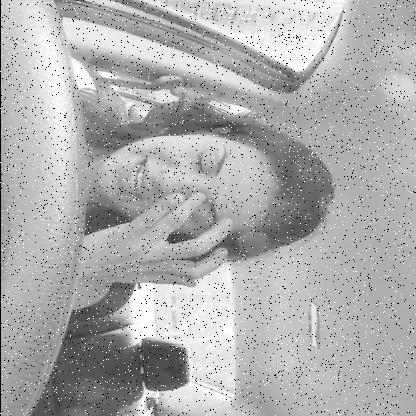no_seatbelt: (0, 70, 345, 271)
